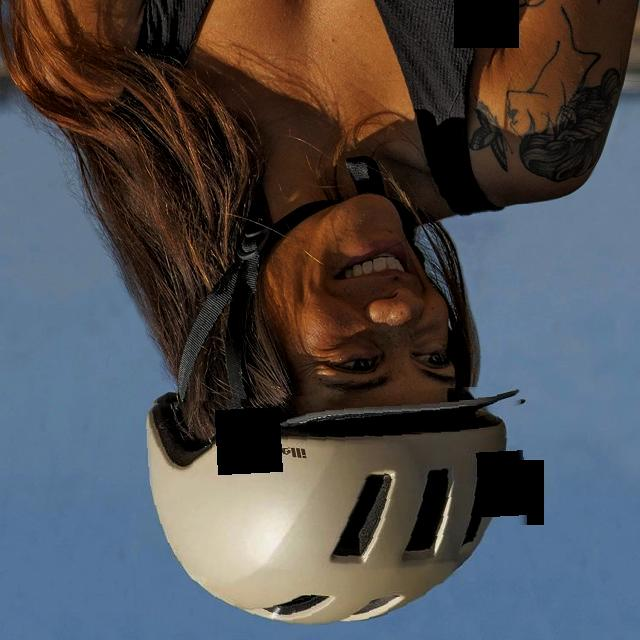helmet: (146, 389, 529, 630)
